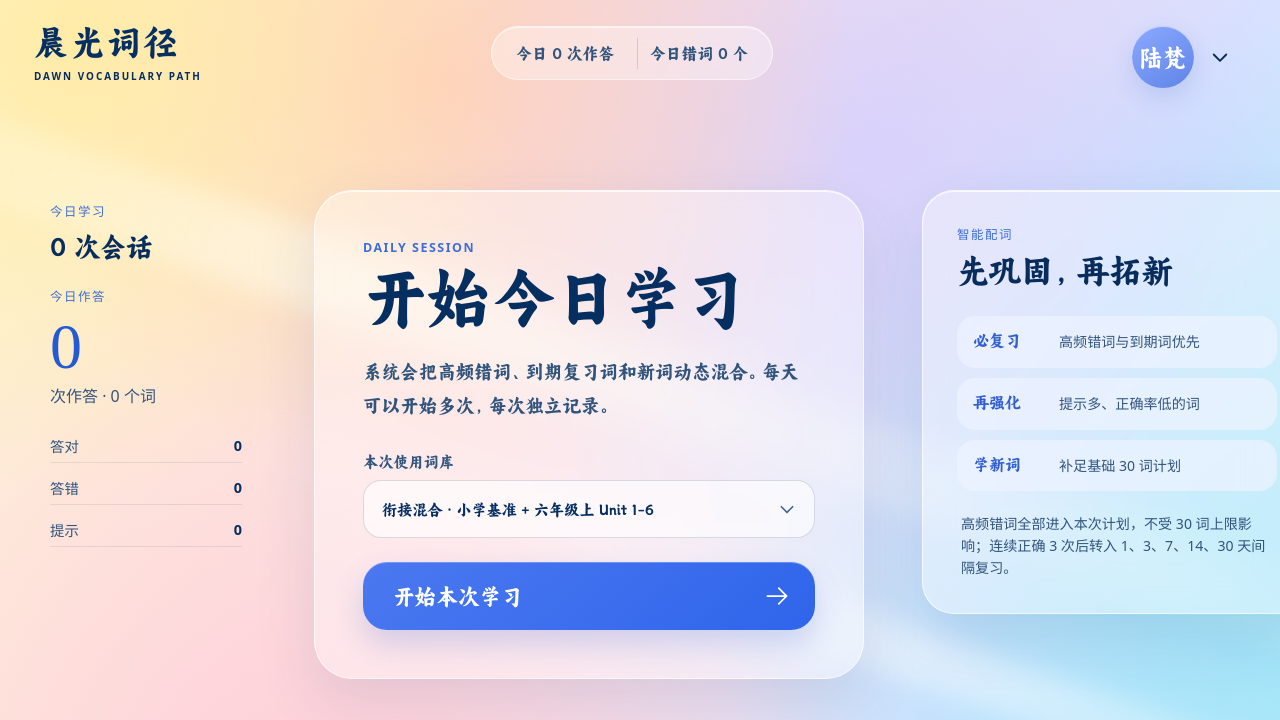
Scenario: 晨光词径每日学习会话 › 词库只有非错的已学词时不强行重复开启空白轮次
This screenshot has width=1280, height=720.
Select "六年级上 Unit 1-6 · 277 条图片词表" in the dropdown named "选择词库": (589,509) [363,480,815,538]
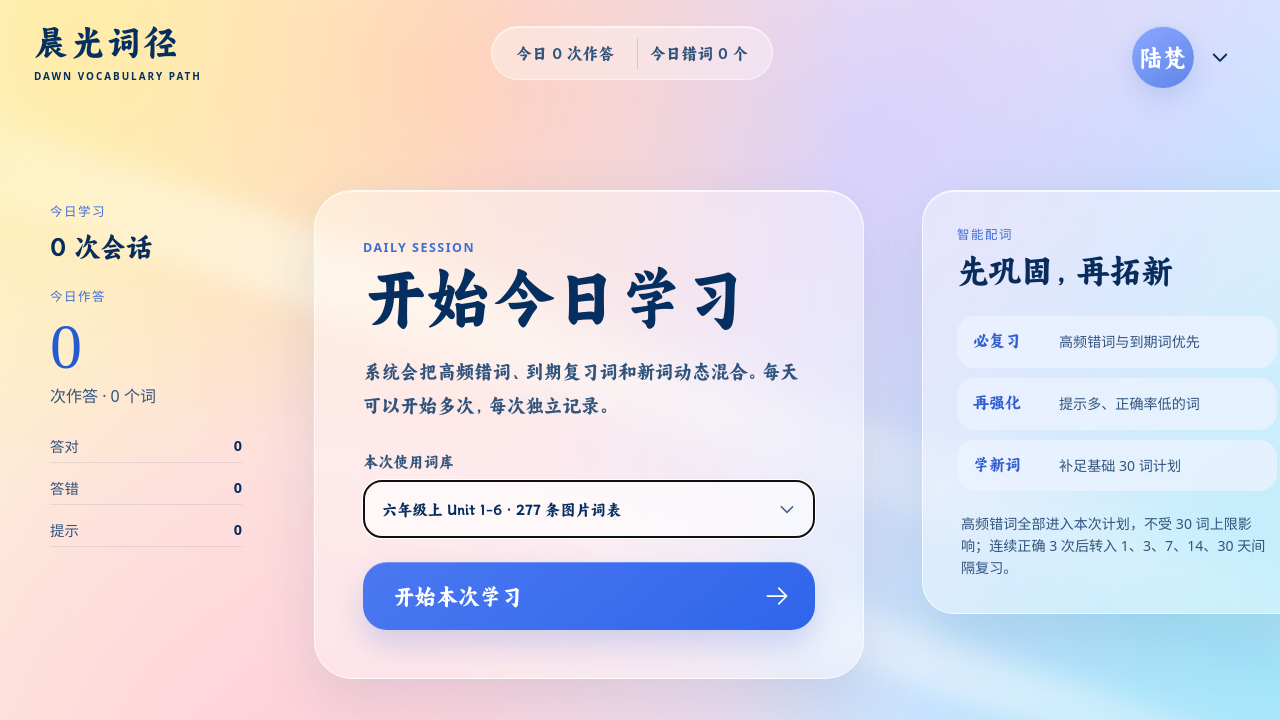
Click the button "开始本次学习": (458,596) [363,562,815,630]
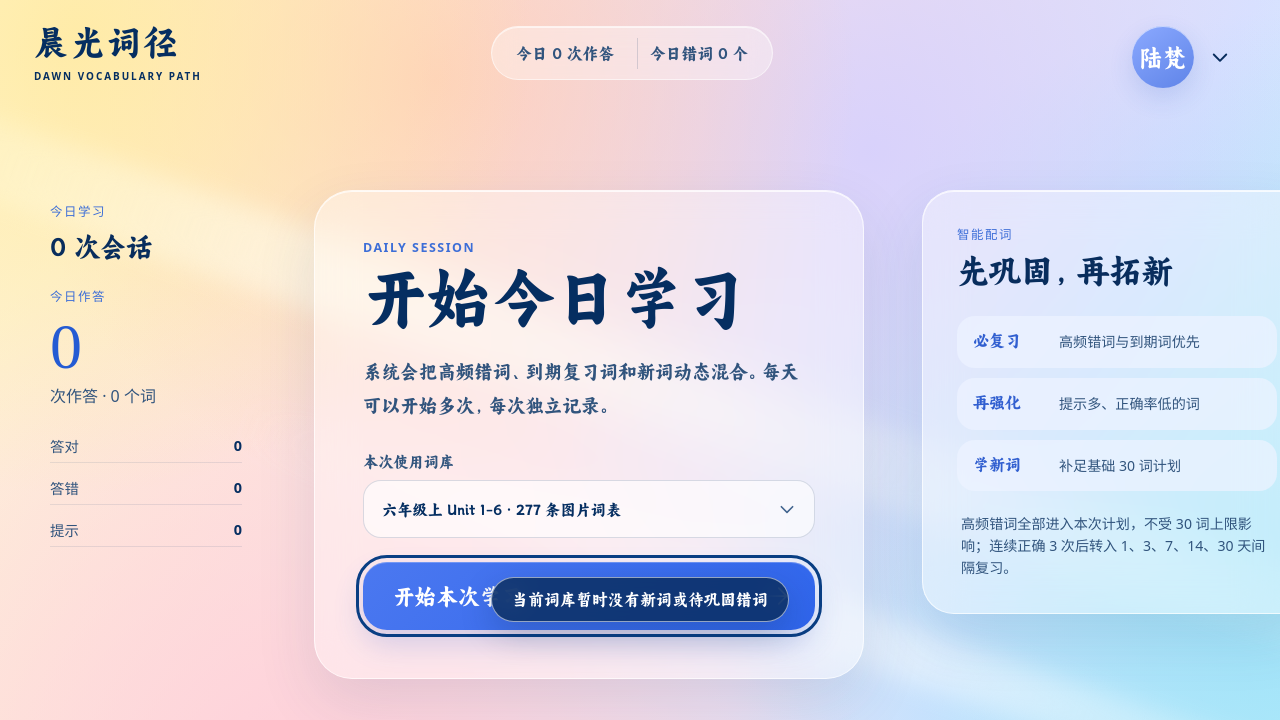
Expected: the heading "开始今日学习" is shown, [363,258,747,337]
Expected: the message reads "当前词库暂时没有新词或待巩固错词", [512,590,768,609]
